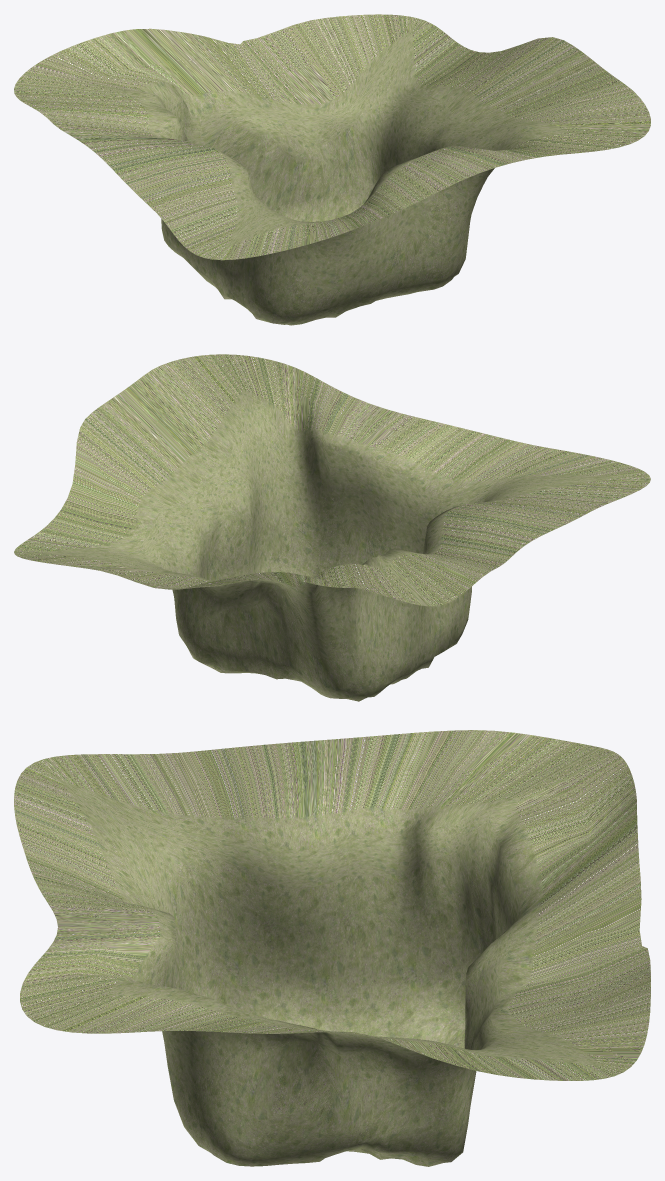
File: Dragonfly_Vestige_Underwater_Terrain.fbx
3 renders of one model, top to bottom at view 1: azimuth 30°, elevation 25°; view 2: azimuth 150°, elevation 25°; view 3: azimuth 270°, elevation 25°, orthographic. The views are drawn at different scales.
Visible parts, largest first — view 1: DF_Vestige_Terrain_Underwater; view 2: DF_Vestige_Terrain_Underwater; view 3: DF_Vestige_Terrain_Underwater.
Boxes of the visible parts, left/top/right/bottom form: DF_Vestige_Terrain_Underwater: left=14, top=14, right=650, bottom=325; DF_Vestige_Terrain_Underwater: left=14, top=354, right=650, bottom=701; DF_Vestige_Terrain_Underwater: left=14, top=730, right=650, bottom=1166.
Size of the model in its own units: 262 by 102 by 227.
